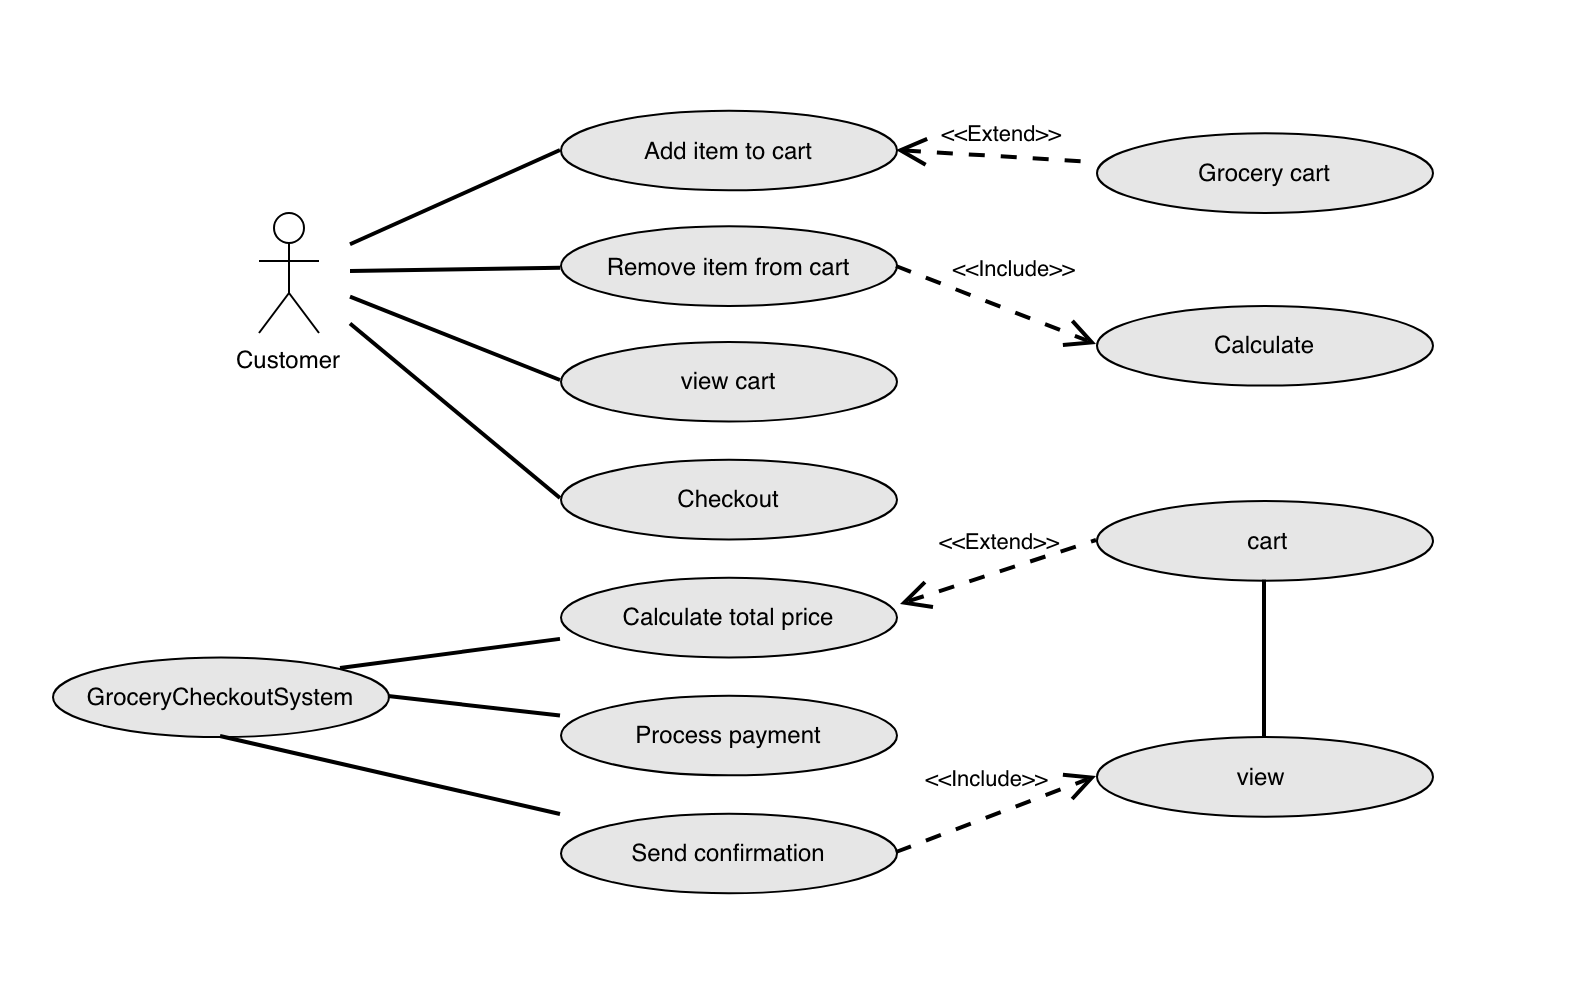actor: (258, 207, 328, 338)
association: (348, 320, 561, 500), (226, 735, 562, 821), (348, 145, 561, 246), (350, 293, 561, 382), (898, 261, 1096, 351), (899, 772, 1100, 850), (897, 535, 1097, 612), (897, 132, 1088, 177), (337, 633, 564, 669), (346, 253, 560, 287), (1239, 583, 1286, 732), (389, 692, 564, 723)
text: (79, 678, 364, 717), (597, 247, 864, 289), (619, 831, 835, 875), (618, 596, 845, 637), (629, 710, 838, 756), (635, 129, 826, 172), (1180, 151, 1339, 195), (660, 475, 799, 524), (660, 363, 804, 409), (1214, 320, 1332, 367), (934, 105, 1069, 146), (228, 344, 356, 382), (948, 253, 1086, 284), (935, 523, 1060, 555), (923, 761, 1049, 793), (1232, 752, 1307, 800), (1239, 525, 1297, 564)
use_case: (558, 810, 899, 899), (558, 455, 897, 545), (560, 338, 901, 427), (1095, 129, 1436, 217), (561, 105, 900, 194), (1097, 732, 1436, 821), (558, 691, 899, 778), (560, 223, 899, 309), (1098, 497, 1436, 584), (560, 575, 900, 661), (1094, 302, 1436, 387), (51, 655, 390, 739)
